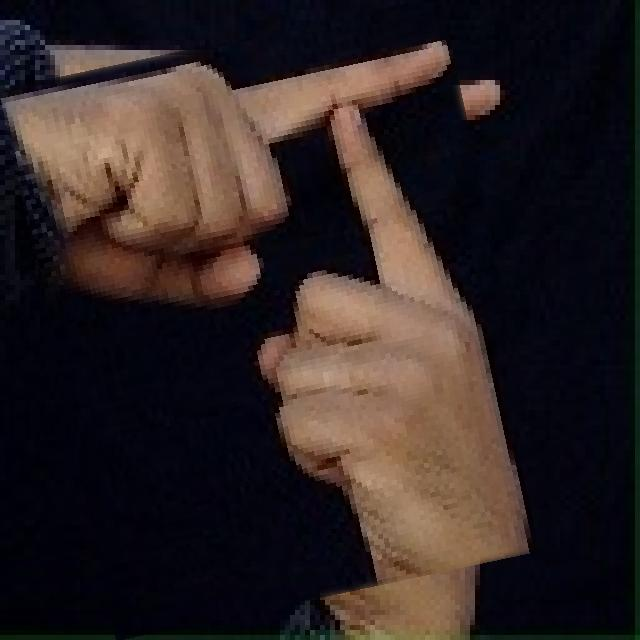T: (25, 16, 531, 620)
